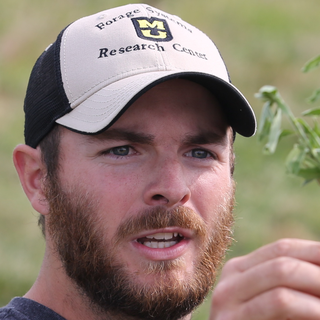eye: (96, 140, 146, 164), (177, 140, 221, 166)
